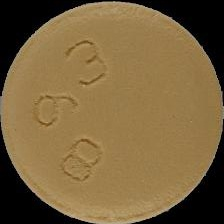50090-1436: (0, 0, 224, 224)
